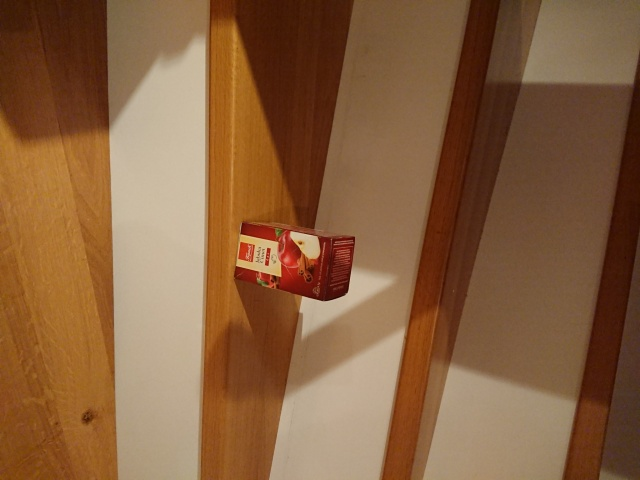Franck Apple Cinnamon Tea 60g: (231, 217, 358, 304)
